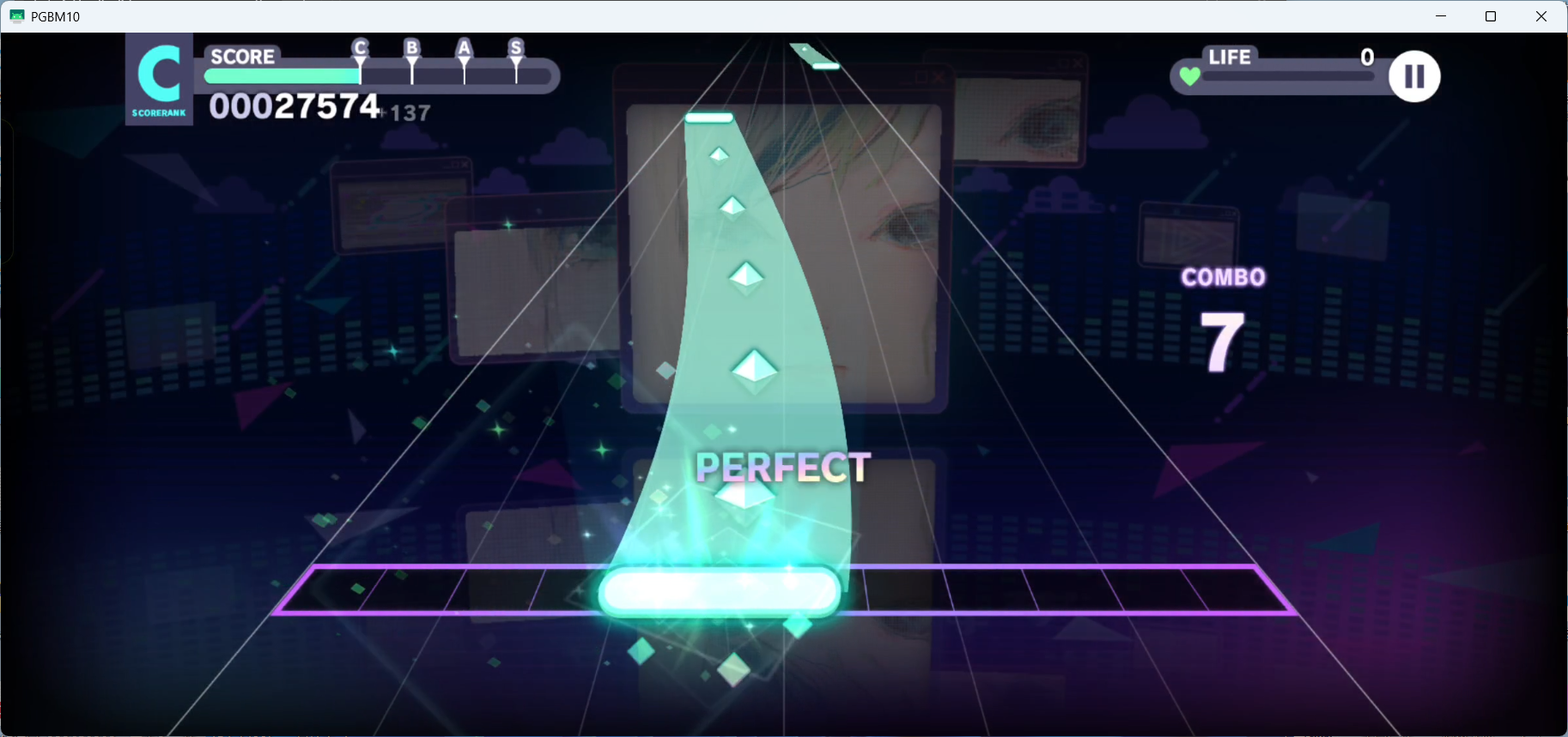hold: (611, 124, 854, 565), (789, 43, 834, 63)
sweep: (714, 468, 775, 528), (732, 351, 779, 396), (727, 260, 765, 299), (718, 194, 746, 222), (708, 146, 729, 168), (811, 63, 840, 69), (801, 46, 807, 51)
tap: (599, 567, 842, 619), (685, 113, 733, 122)
